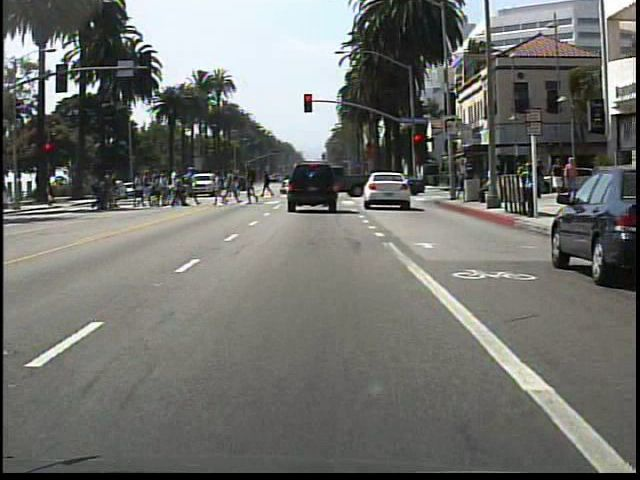person: (515, 160, 534, 220), (564, 155, 582, 202), (548, 154, 566, 200)
